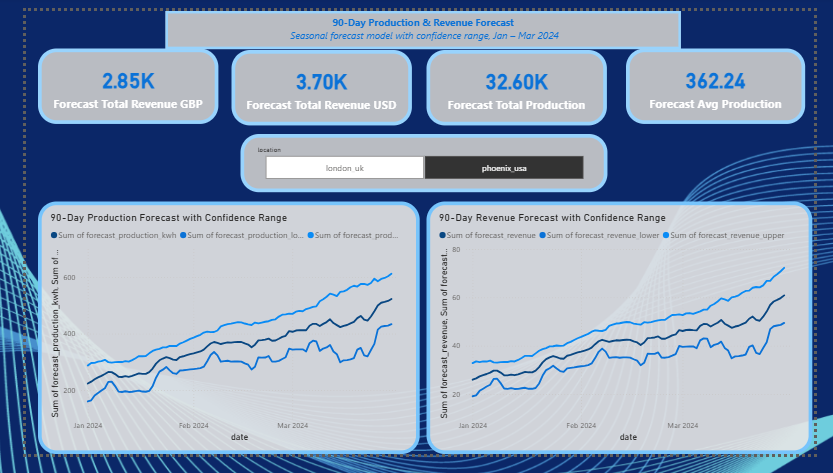

Layout of this report page (visuals, bound fields, positions):
{"tool":"powerbi","page":{"name":"Forecast","canvas":[1280,720],"ordinal":2},"visuals":[{"type":"card","title":"Total Production","fields":{"Values":["forecast_output.Forecast Total Revenue USD"]},"box":[334.5,63.8,293.1,122.4],"z":0},{"type":"card","title":"Total Production","fields":{"Values":["forecast_output.Forecast Avg Production"]},"box":[975.9,62.1,291.4,122.4],"z":1000},{"type":"card","title":"Total Production","fields":{"Values":["forecast_output.Forecast Total Revenue GBP"]},"box":[19,62.1,293.1,122.4],"z":2000},{"type":"slicer","fields":{"Values":["forecast_output.location"]},"box":[348.3,200,596.6,94.8],"z":3000},{"type":"lineChart","title":"90-Day Production Forecast with Confidence Range","fields":{"Category":["forecast_output.date"],"Y":["Sum(forecast_output.forecast_production_kwh)","Sum(forecast_output.forecast_production_lower)","Sum(forecast_output.forecast_production_upper)"]},"box":[19,310.3,620.7,410.3],"z":4000},{"type":"lineChart","title":"90-Day Revenue Forecast with Confidence Range","fields":{"Category":["forecast_output.date"],"Y":["Sum(forecast_output.forecast_revenue)","Sum(forecast_output.forecast_revenue_lower)","Sum(forecast_output.forecast_revenue_upper)"]},"box":[651.7,310.3,627.6,410.3],"z":5000},{"type":"card","title":"Total Production","fields":{"Values":["forecast_output.Forecast Total Production"]},"box":[651.7,63.8,293.1,122.4],"z":6000},{"type":"textbox","box":[225.9,0,837.9,62.1],"z":6001}]}

Visuals, with their boxes in screenshot pixels (x1, y1, x2, y2), scaled from the page's 1280x720 canvas onto the 833x473 screenshot:
"Total Production" card: bbox=(218, 42, 408, 122)
"Total Production" card: bbox=(635, 41, 825, 121)
"Total Production" card: bbox=(12, 41, 203, 121)
slicer - forecast_output.location: bbox=(227, 131, 615, 194)
"90-Day Production Forecast with Confidence Range" lineChart: bbox=(12, 204, 416, 472)
"90-Day Revenue Forecast with Confidence Range" lineChart: bbox=(424, 204, 832, 472)
"Total Production" card: bbox=(424, 42, 615, 122)
textbox: bbox=(147, 0, 692, 41)
